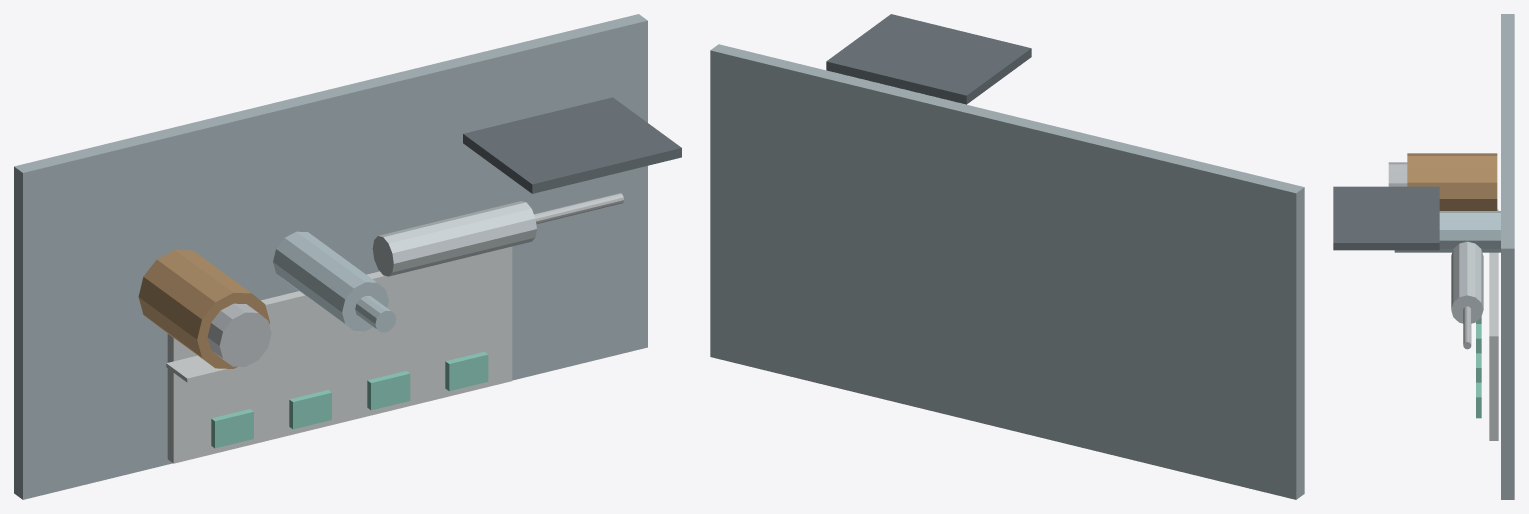
Rendered from medication-bench-medium.glb.
3 views of the same model, side by side, from view 1: azimuth 30°, elevation 25°; view 2: azimuth 150°, elevation 25°; view 3: azimuth 270°, elevation 25° (orthographic). The views are drawn at different scales.
Parts seen in each view (by area): view 1: workbench, tray, case_board, vial_body, training_syringe_barrel, ampoule_body, vial_cap, check_token_3, check_token_4, check_token_1, check_token_2, vial_label (+2 smaller); view 2: workbench, case_board; view 3: case_board, workbench, vial_body, ampoule_body, training_syringe_barrel, tray, vial_cap, training_syringe_tip, check_token_4.
Boxes of the visible parts, left/top/right/bottom form: workbench: left=14, top=14, right=647, bottom=499; tray: left=167, top=246, right=512, bottom=463; case_board: left=463, top=97, right=681, bottom=193; vial_body: left=138, top=250, right=269, bottom=368; training_syringe_barrel: left=372, top=201, right=536, bottom=276; ampoule_body: left=273, top=231, right=388, bottom=331; vial_cap: left=207, top=303, right=271, bottom=366; check_token_3: left=367, top=371, right=410, bottom=410; check_token_4: left=445, top=352, right=488, bottom=391; check_token_1: left=211, top=409, right=253, bottom=448; check_token_2: left=289, top=390, right=331, bottom=429; vial_label: left=166, top=355, right=249, bottom=382; workbench: left=710, top=44, right=1304, bottom=499; case_board: left=826, top=14, right=1031, bottom=104; case_board: left=1333, top=186, right=1439, bottom=250; workbench: left=1501, top=14, right=1514, bottom=499; vial_body: left=1407, top=153, right=1497, bottom=210; ampoule_body: left=1394, top=211, right=1500, bottom=252; training_syringe_barrel: left=1451, top=241, right=1483, bottom=323; tray: left=1489, top=209, right=1498, bottom=440; vial_cap: left=1388, top=162, right=1407, bottom=186; training_syringe_tip: left=1463, top=306, right=1471, bottom=349; check_token_4: left=1476, top=382, right=1481, bottom=418.
Size of the model in its own units: 4.8 by 2.4 by 1.57.
